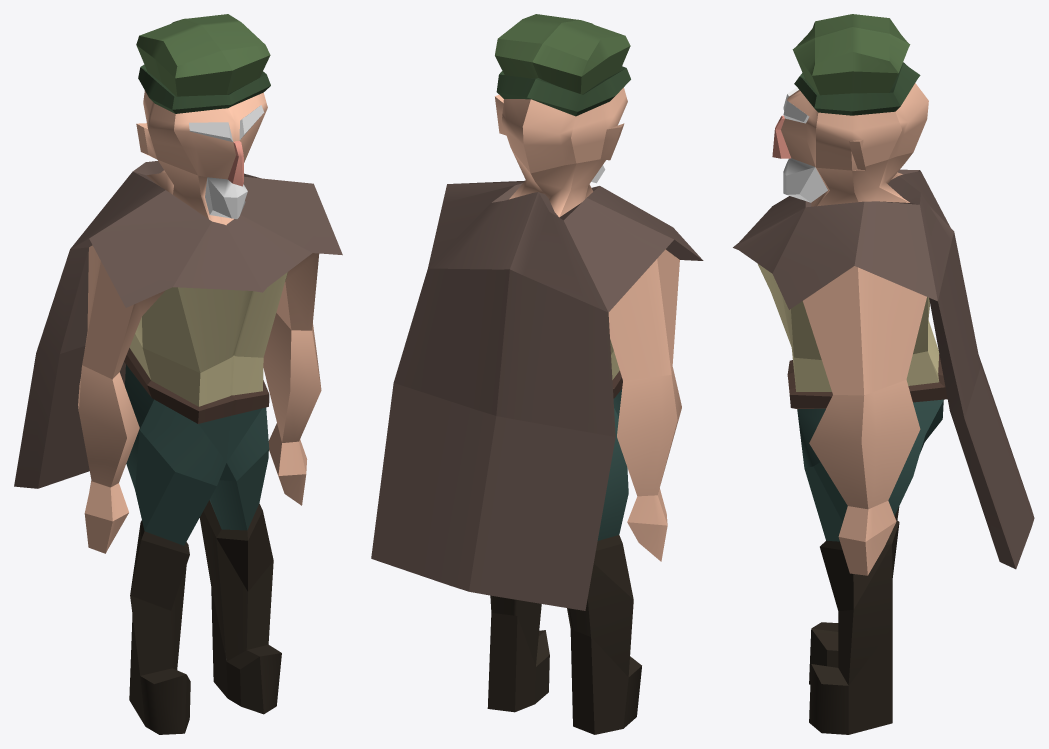
The model's file is archer.fbx.
3 renders of one model, left to right at view 1: azimuth 30°, elevation 25°; view 2: azimuth 150°, elevation 25°; view 3: azimuth 270°, elevation 25°, orthographic.
Parts seen in each view (by area): view 1: Archer:archer; view 2: Archer:archer; view 3: Archer:archer.
Boxes of the visible parts, left/top/right/bottom form: Archer:archer: left=14, top=14, right=342, bottom=734; Archer:archer: left=371, top=14, right=703, bottom=734; Archer:archer: left=733, top=14, right=1034, bottom=734.
Bounding box in the file's own units: 4.01 × 11.03 × 4.45.
Materials: 1 (1 with a texture image).
